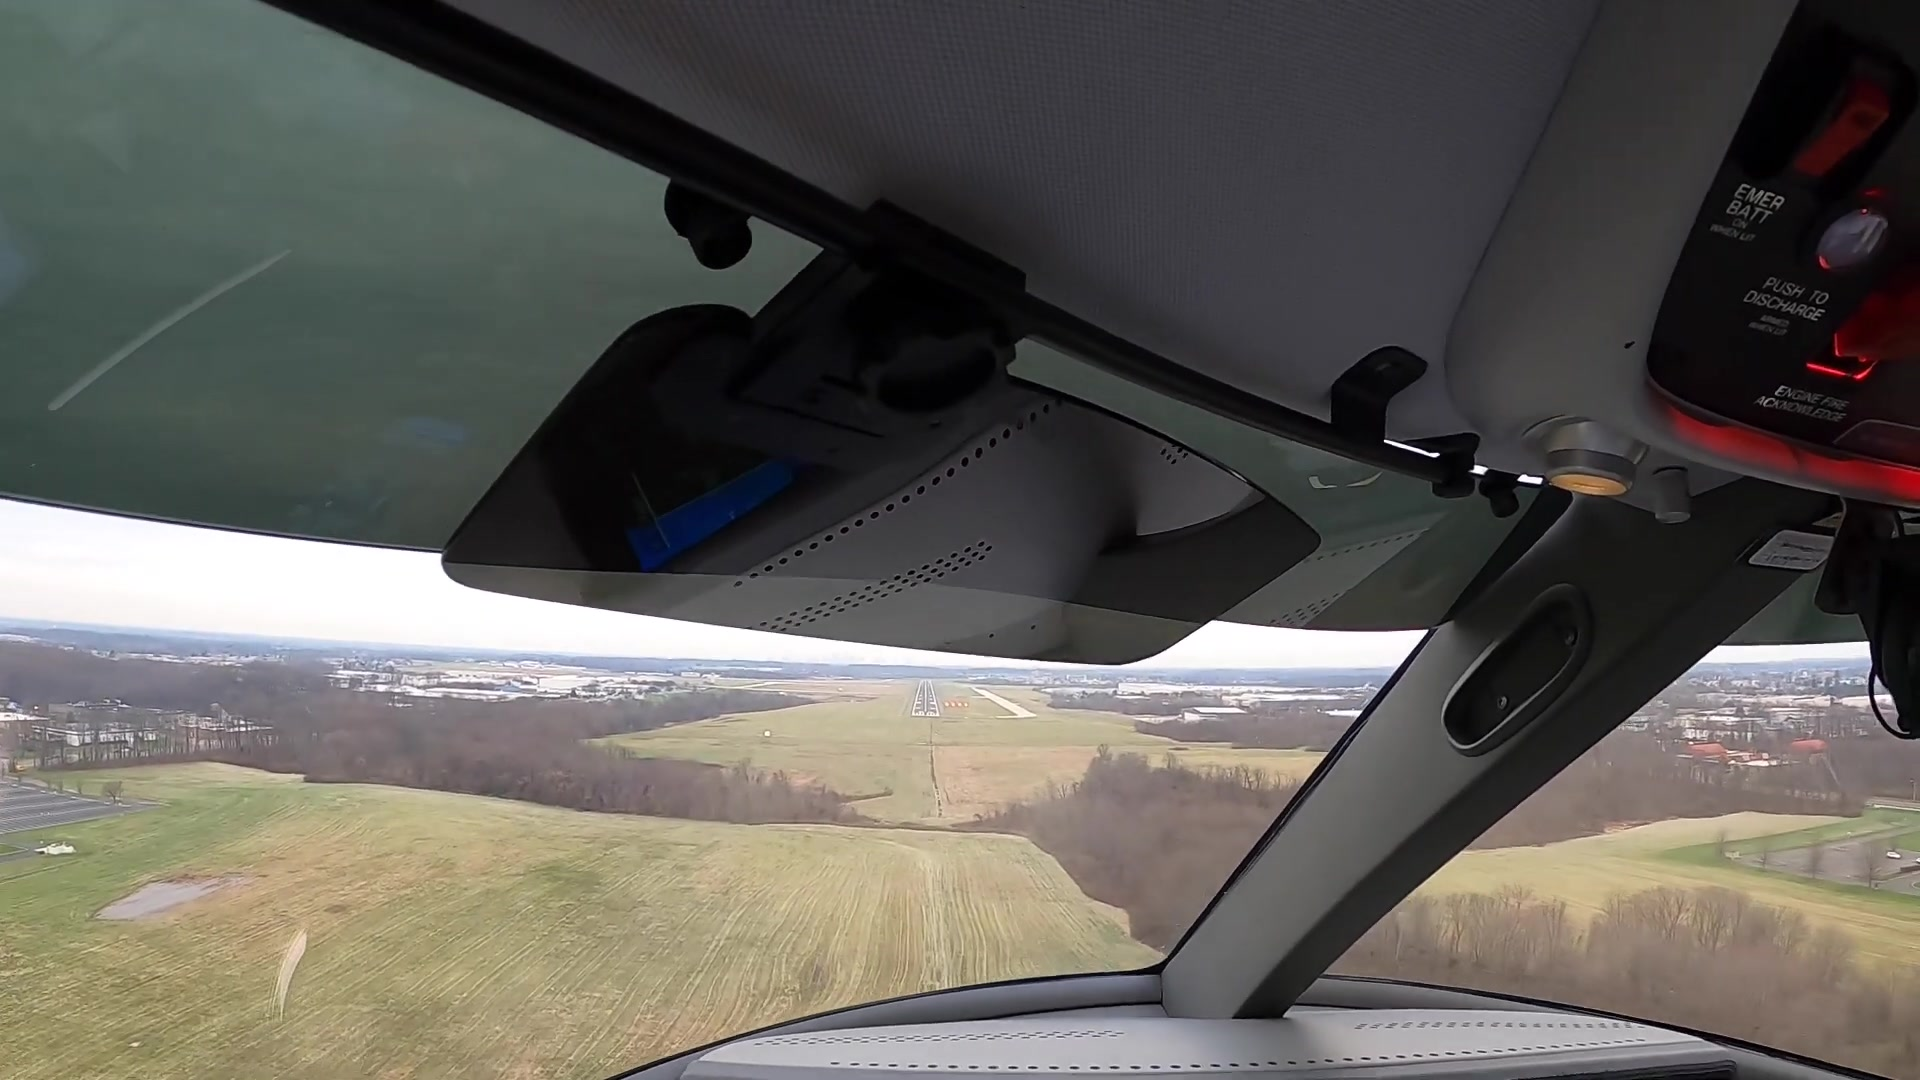runway: (910, 676, 940, 717)
